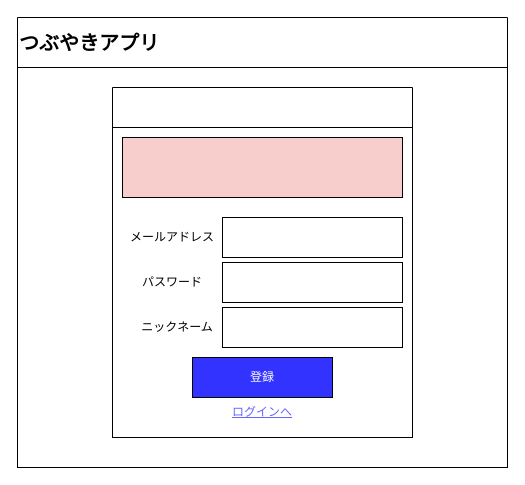
The diagram is 525 pixels wide and 485 high, and some of its shapes have lost their labels. Each missing label, with the box of its shape:
アカウント登録: (112, 86, 412, 438)
メールアドレスは必ず入力してください パスワードは必ず入力してください ニックネームは必ず入力してください: (122, 136, 402, 198)
